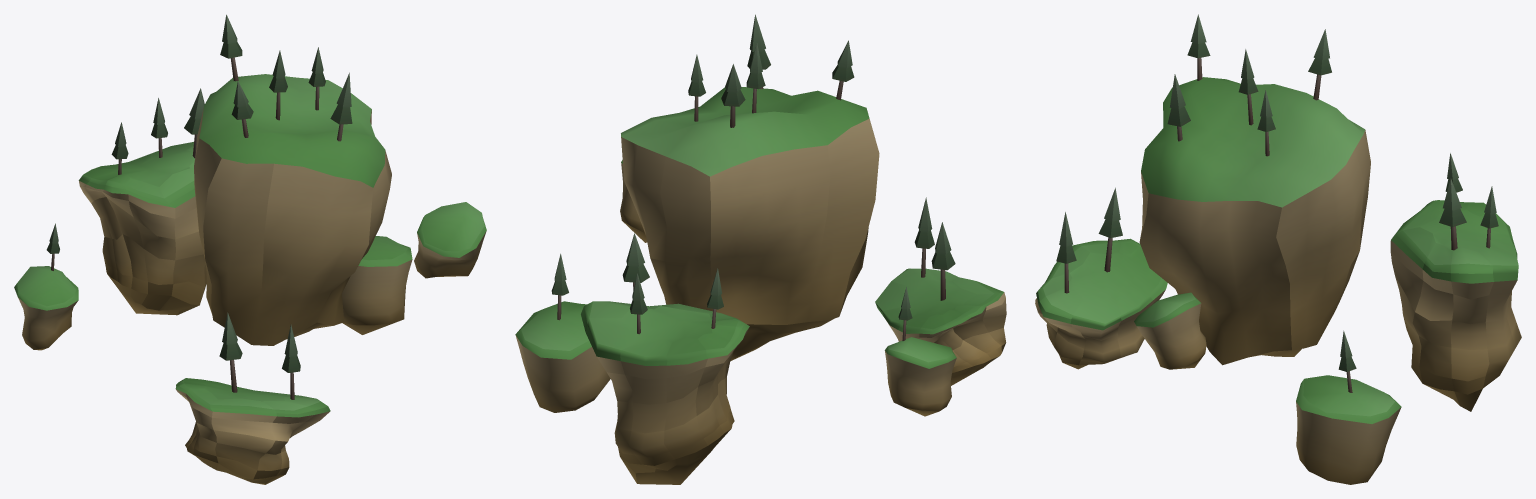
The model's file is OBJ_FloatingIslandModel.fbx.
The picture shows the model from 3 angles, left to right: view 1: azimuth 30°, elevation 25°; view 2: azimuth 150°, elevation 25°; view 3: azimuth 270°, elevation 25°; orthographic projection. The views are drawn at different scales.
Parts seen in each view (by area): view 1: OBJ_FloatingIslandModel; view 2: OBJ_FloatingIslandModel; view 3: OBJ_FloatingIslandModel.
Part boxes in pixels (x1,y1,x2,y2): OBJ_FloatingIslandModel: (14, 14, 486, 484); OBJ_FloatingIslandModel: (515, 14, 1006, 484); OBJ_FloatingIslandModel: (1035, 14, 1521, 484).
Bounding box in the file's own units: 102 × 90.01 × 104.
